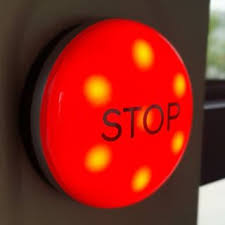bell: (25, 15, 197, 213)
